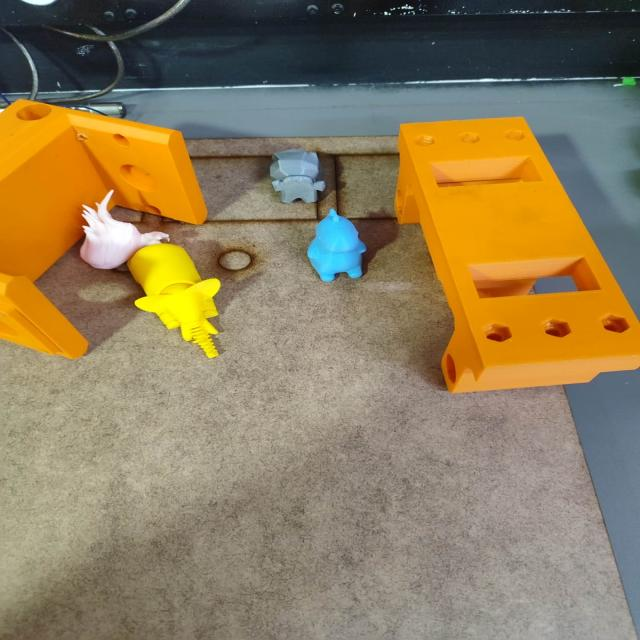DINO: (295, 214, 372, 284)
